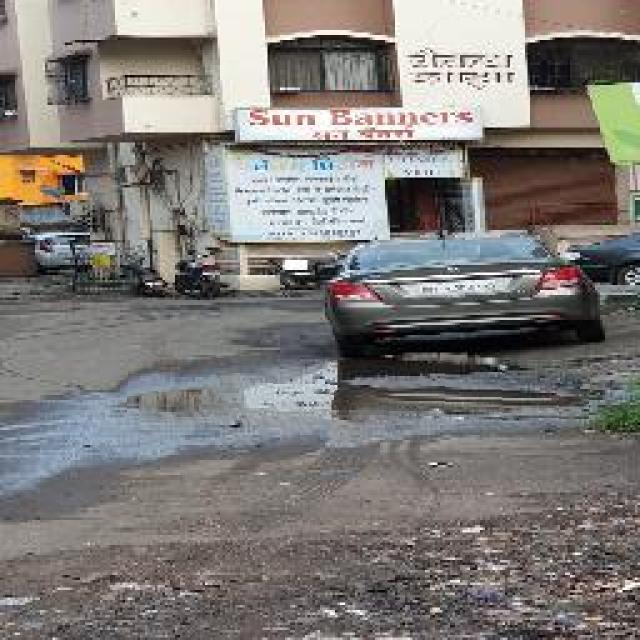puddle: (129, 357, 592, 427)
